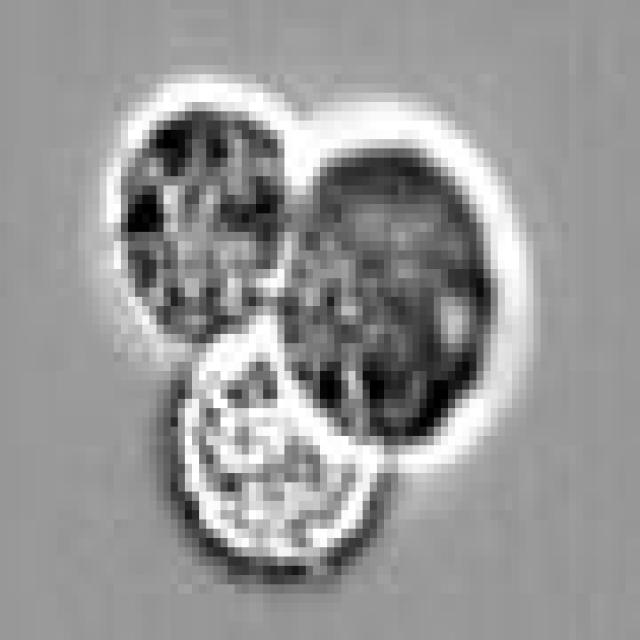Cancer Cell: (284, 139, 505, 455)
WBC: (171, 315, 384, 566), (128, 93, 299, 334)
